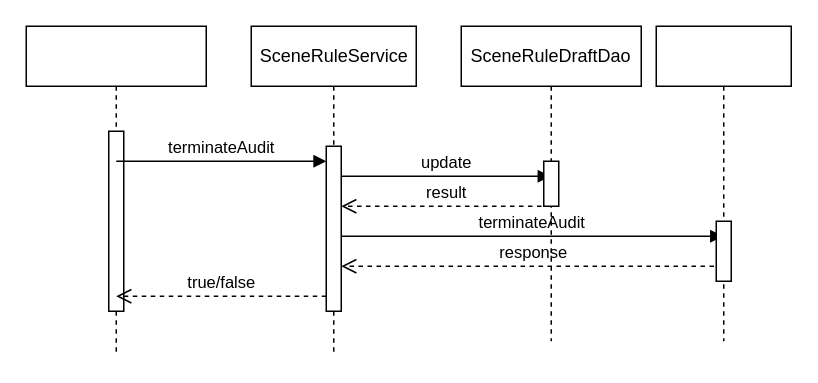
Some shapes in this 818 by 383 pixel diagram are drawn without their labels. The shapes that lost their labels are listed below. From the top down, each one's box as (x1, y1, x2, y2) in pixels, then its label:
(25, 25, 206, 356): SceneManageService
(655, 25, 791, 341): RunnerService
